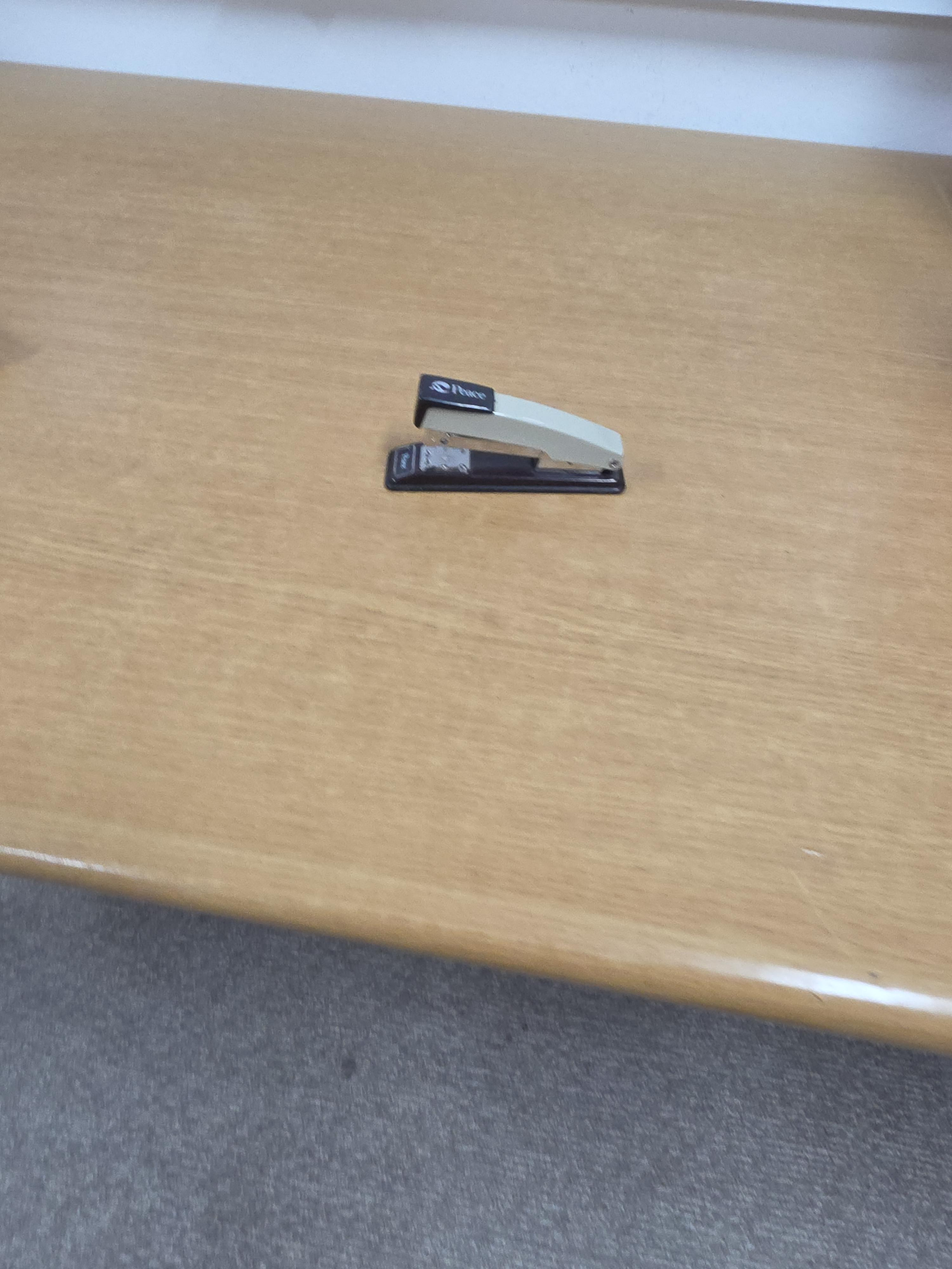stapler: (384, 374, 627, 495)
